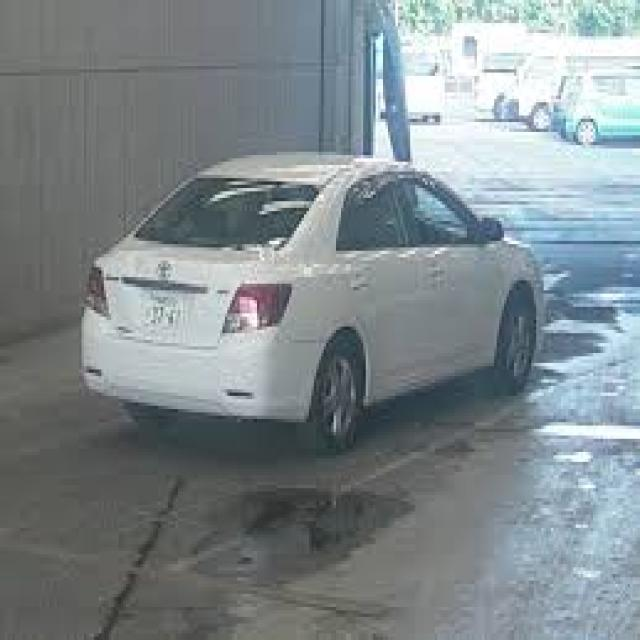white: (81, 152, 547, 443)
